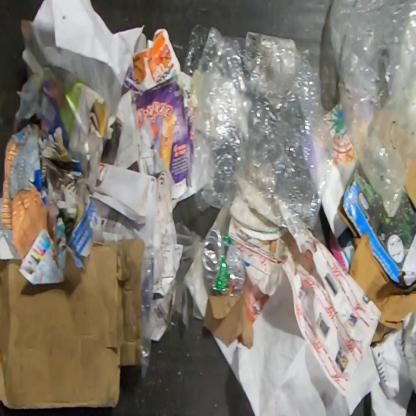cardboard: (0, 235, 145, 411), (122, 27, 192, 200), (337, 162, 415, 288), (0, 121, 58, 261), (349, 232, 415, 345), (201, 289, 255, 350), (404, 155, 415, 213)
metal: (202, 228, 246, 294)
soft_plastic: (178, 22, 337, 236), (328, 0, 415, 219), (158, 217, 208, 329), (140, 241, 165, 383)
